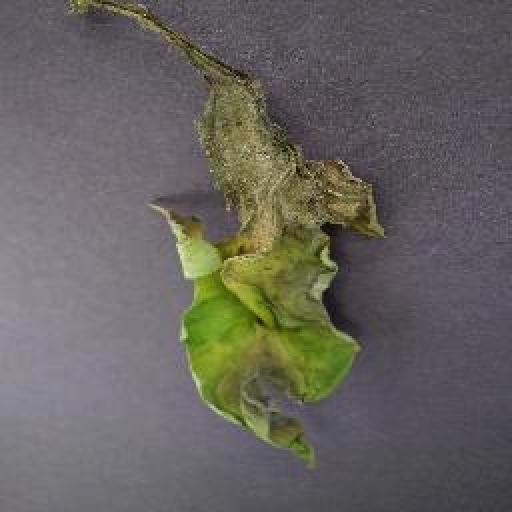disease_tomato: (66, 0, 386, 468)
